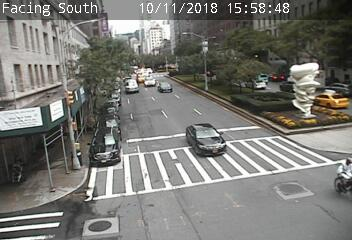car: (187, 124, 225, 157), (158, 82, 172, 92), (144, 77, 156, 86), (136, 74, 147, 83)
